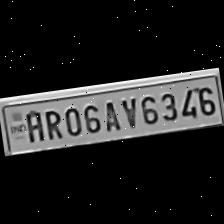0: (60, 104, 82, 138)
3: (157, 88, 178, 124)
4: (176, 86, 198, 119)
6: (136, 91, 160, 127), (80, 101, 104, 135), (194, 83, 216, 117)
A: (21, 107, 45, 143), (99, 97, 122, 133)
R: (40, 106, 64, 142)
V: (118, 94, 140, 131)
